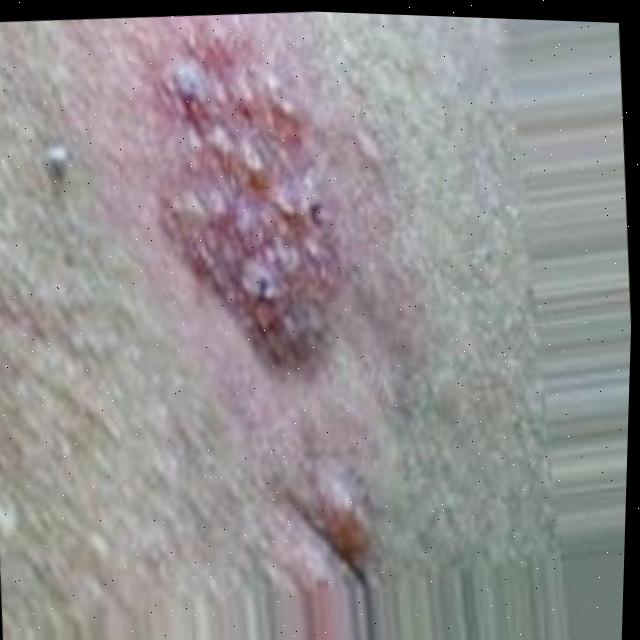Shingles: (153, 39, 345, 372)
